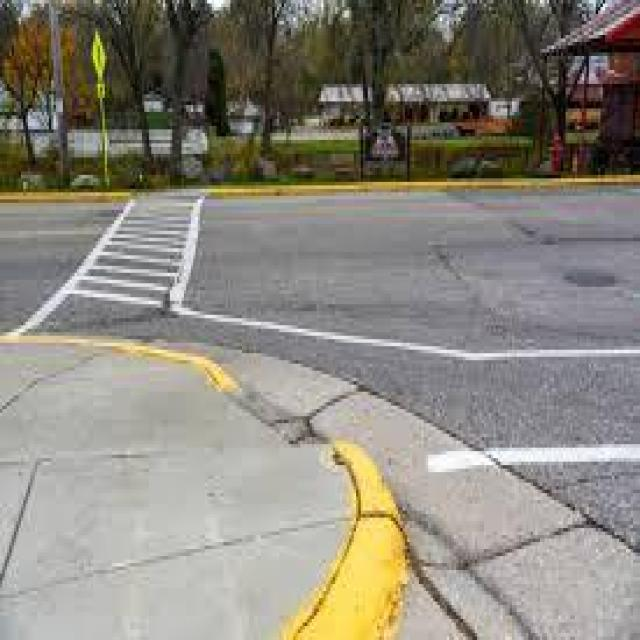curb: (292, 513, 409, 637), (331, 433, 409, 548)
